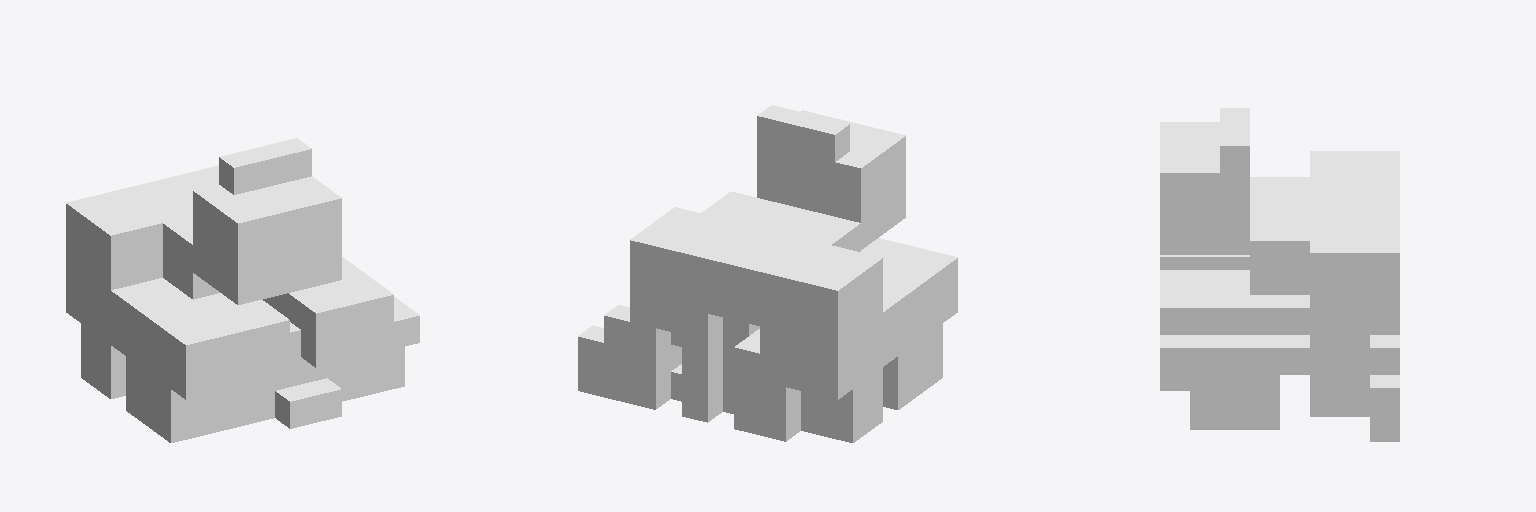
File: SMALLrOCK.obj
3 views of the same model, side by side, from view 1: azimuth 30°, elevation 25°; view 2: azimuth 150°, elevation 25°; view 3: azimuth 270°, elevation 25° (orthographic).
Visible parts, largest first — view 1: SMALLrOCK; view 2: SMALLrOCK; view 3: SMALLrOCK.
Part boxes in pixels (bbox=[...]): SMALLrOCK: bbox=[66, 138, 419, 442]; SMALLrOCK: bbox=[578, 105, 957, 442]; SMALLrOCK: bbox=[1160, 108, 1399, 441].
Size of the model in its own units: 10 by 9 by 8.